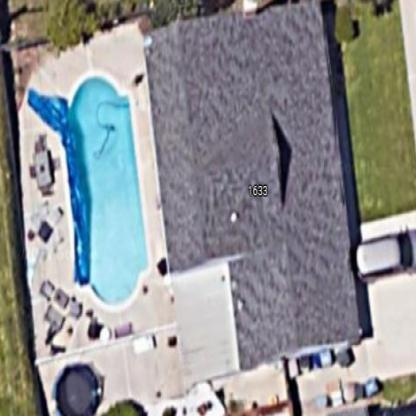pool: (22, 55, 159, 315)
